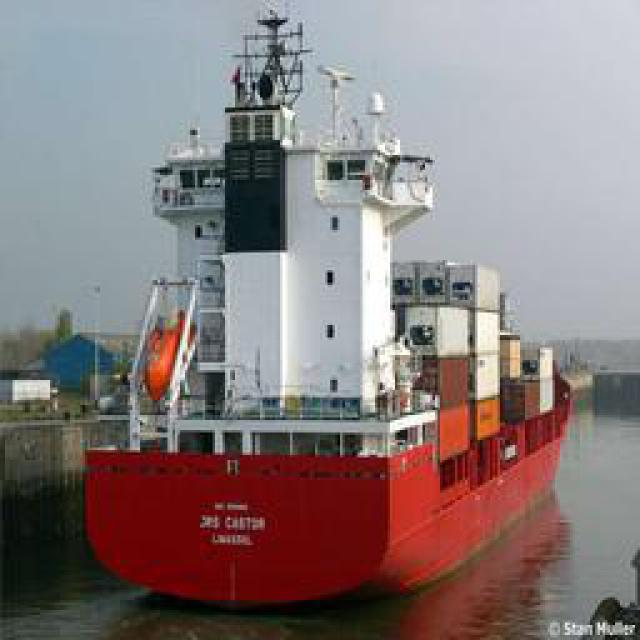Ship: (76, 15, 576, 630)
